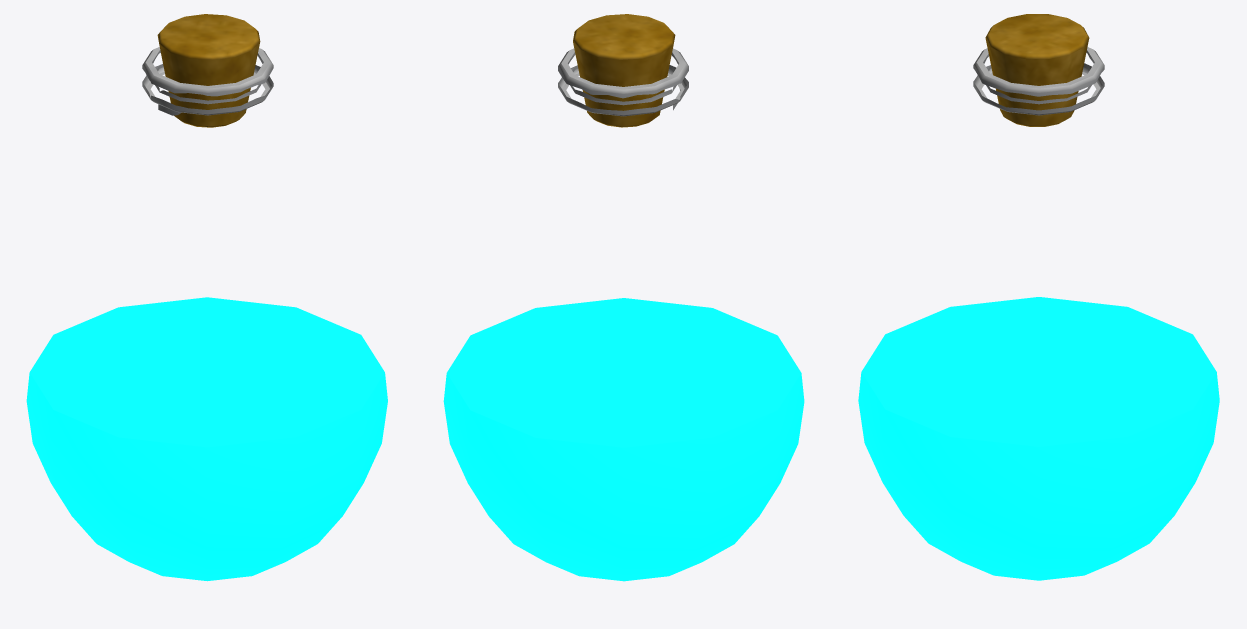
Rendered from MagicPotion_2.fbx.
The picture shows the model from 3 angles, left to right: view 1: azimuth 30°, elevation 25°; view 2: azimuth 150°, elevation 25°; view 3: azimuth 270°, elevation 25°; orthographic projection.
Parts seen in each view (by area): view 1: MagicPotion_2; view 2: MagicPotion_2; view 3: MagicPotion_2.
Boxes of the visible parts, left/top/right/bottom form: MagicPotion_2: left=26, top=14, right=387, bottom=581; MagicPotion_2: left=443, top=14, right=804, bottom=581; MagicPotion_2: left=858, top=14, right=1219, bottom=580.
Size of the model in its own units: 53.55 by 81.72 by 53.55.
